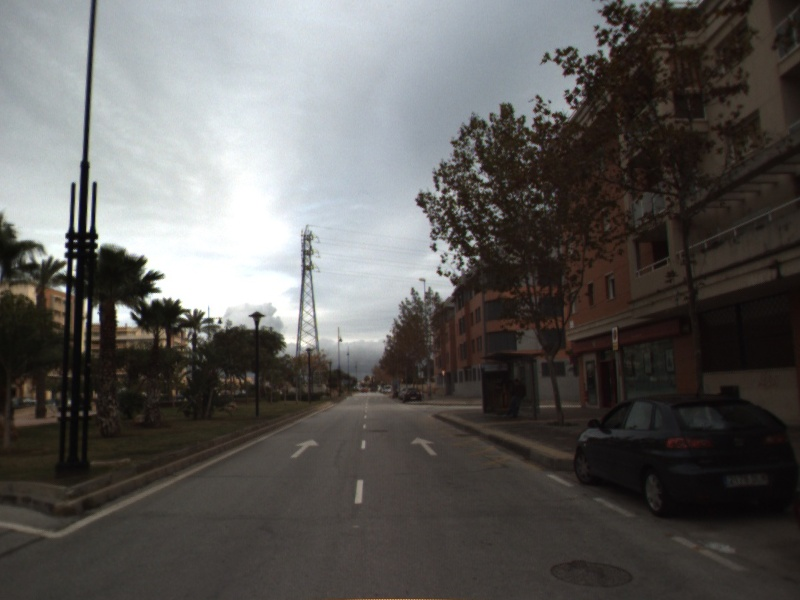STRAIGHT: (289, 437, 321, 460), (409, 435, 440, 457)
